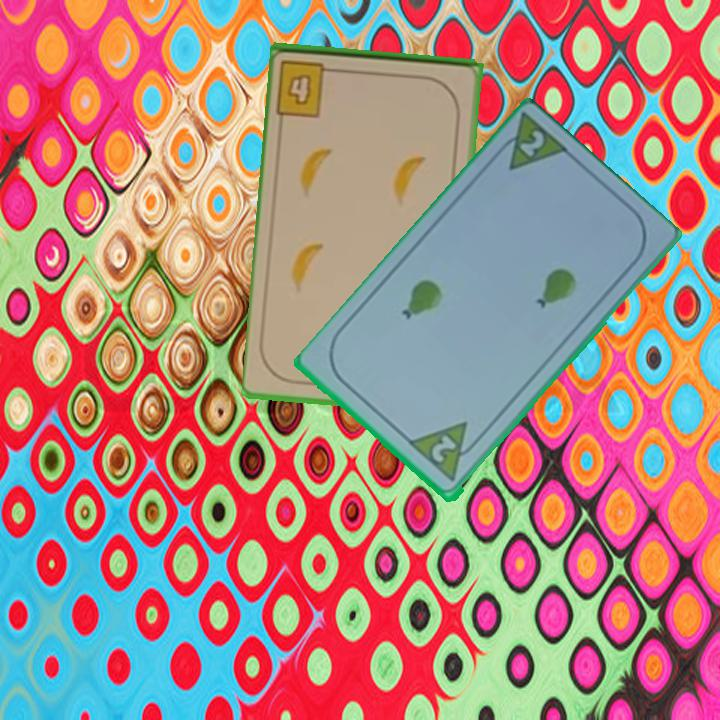2p: (407, 418, 485, 486), (489, 112, 573, 175)
4b: (273, 56, 342, 120)
